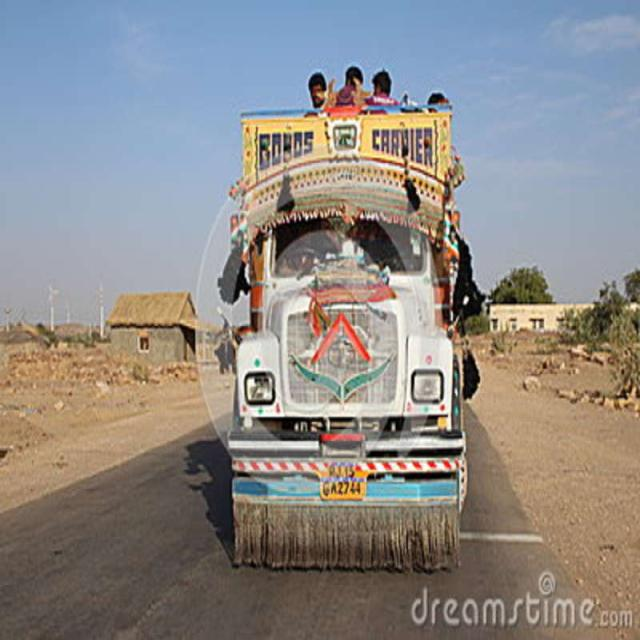normal_truck: (219, 103, 475, 568)
